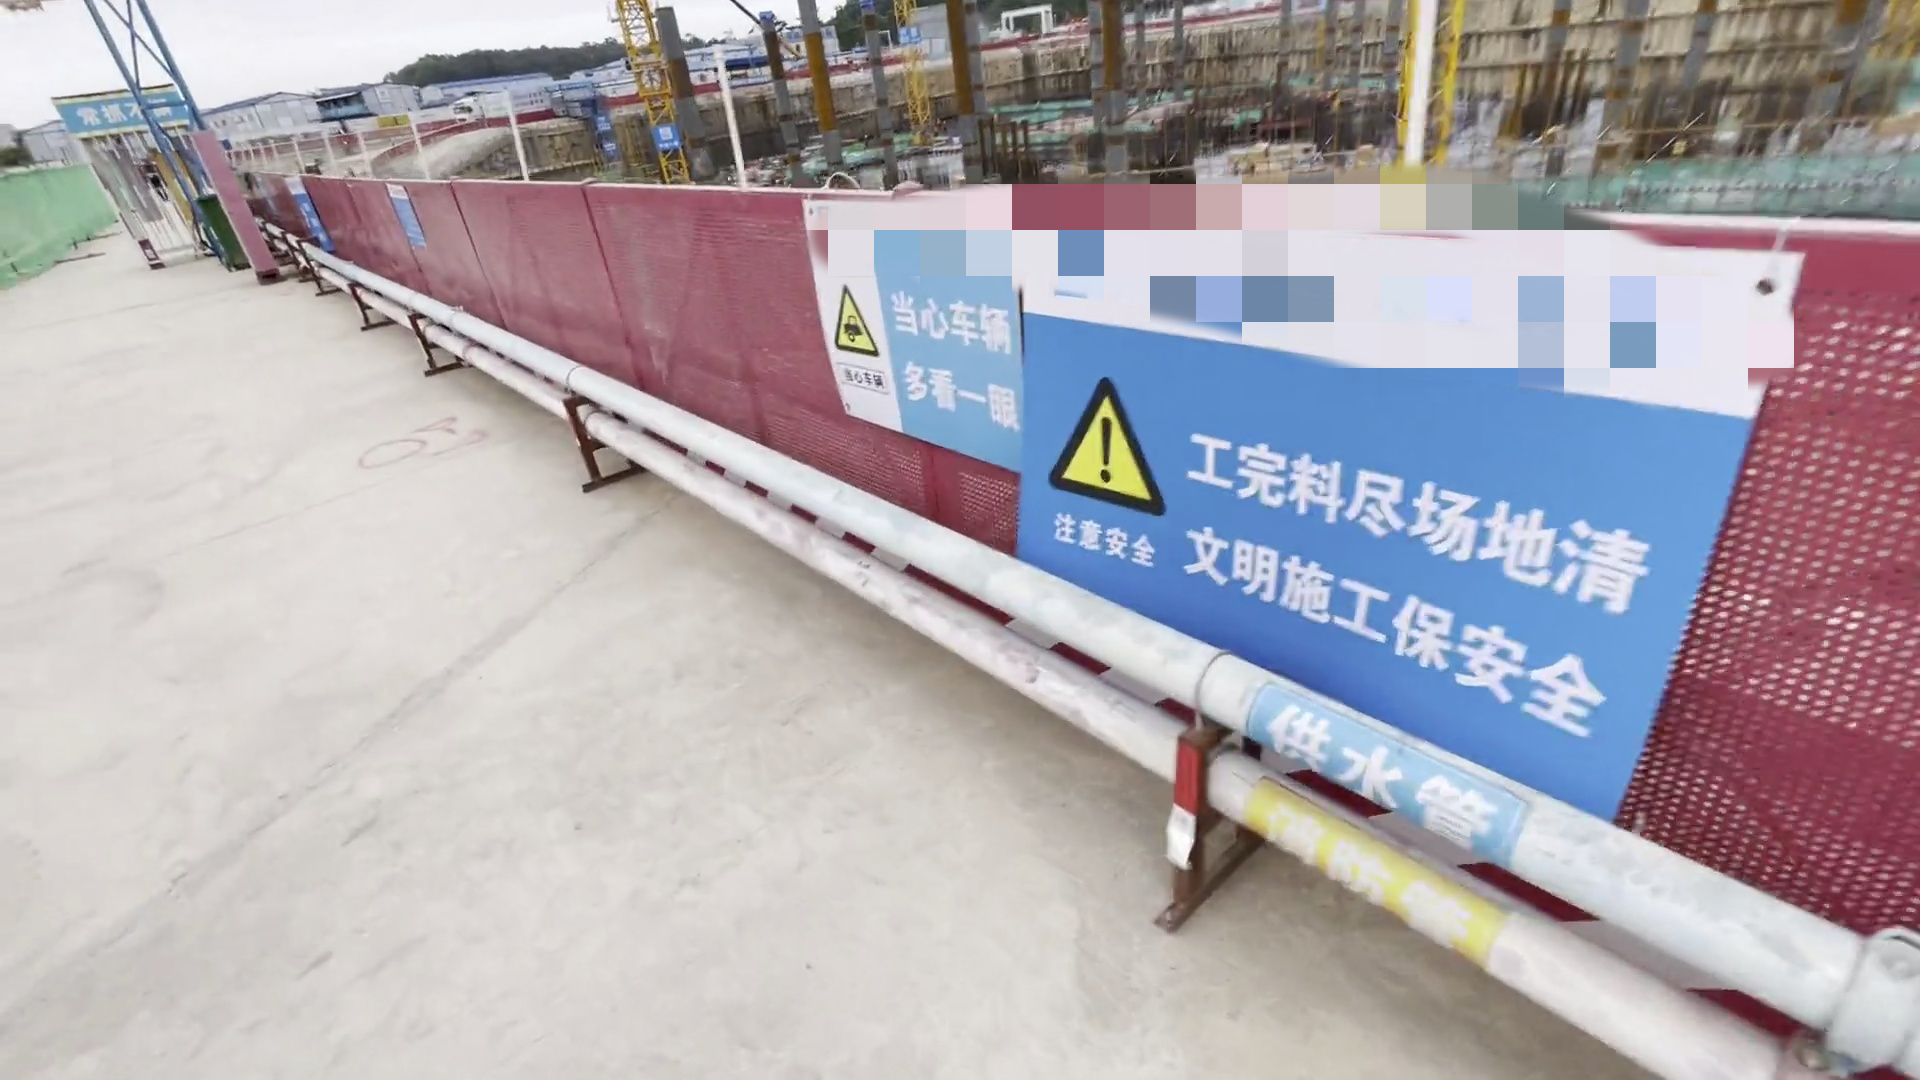fence: (251, 171, 1887, 932)
slogan: (1033, 247, 1673, 760), (804, 198, 1022, 451), (55, 87, 189, 136), (268, 175, 326, 255), (381, 185, 434, 257)
